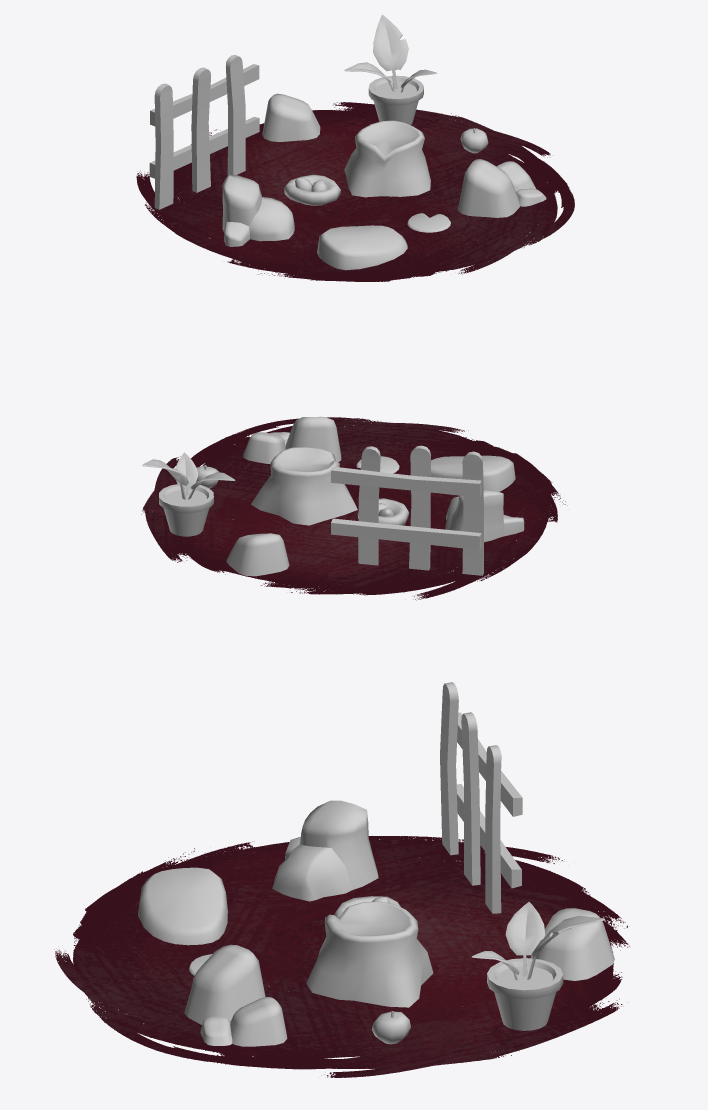
The model's file is environment.fbx.
The picture shows the model from 3 angles, top to bottom: view 1: azimuth 30°, elevation 25°; view 2: azimuth 150°, elevation 25°; view 3: azimuth 270°, elevation 25°; orthographic projection. The views are drawn at different scales.
Visible parts, largest first — view 1: pPlane1, Fence, trunk, Plant, Rock_04, Rock_02, Rock_03, Rock_01, Birdsnest, lily, apple; view 2: pPlane1, Fence, trunk, Plant, Rock_02, Rock_01, Rock_04, Rock_03, Birdsnest; view 3: pPlane1, Fence, trunk, Rock_04, Rock_02, Plant, Rock_03, Rock_01, apple.
Part boxes in pixels (x1,y1,x2,y2): pPlane1: (136, 102, 574, 281); Fence: (149, 55, 259, 209); trunk: (344, 120, 430, 197); Plant: (344, 14, 437, 125); Rock_04: (222, 174, 294, 246); Rock_02: (457, 159, 546, 217); Rock_03: (317, 225, 407, 270); Rock_01: (262, 93, 320, 141); Birdsnest: (284, 174, 340, 205); lily: (407, 213, 450, 232); apple: (460, 128, 488, 153); pPlane1: (141, 417, 567, 600); Fence: (331, 445, 483, 575); trunk: (251, 447, 357, 525); Plant: (142, 452, 235, 536); Rock_02: (243, 416, 341, 463); Rock_01: (226, 533, 289, 576); Rock_04: (445, 490, 524, 541); Rock_03: (431, 455, 515, 491); Birdsnest: (357, 498, 408, 525); pPlane1: (54, 836, 629, 1077); Fence: (440, 682, 522, 913); trunk: (306, 901, 433, 1007); Rock_04: (272, 800, 378, 901); Rock_02: (184, 944, 287, 1046); Plant: (471, 902, 604, 1030); Rock_03: (138, 867, 227, 945); Rock_01: (536, 908, 614, 980); apple: (371, 1011, 410, 1044).
Bounding box in the file's own units: 11.37 × 3.07 × 11.37.
